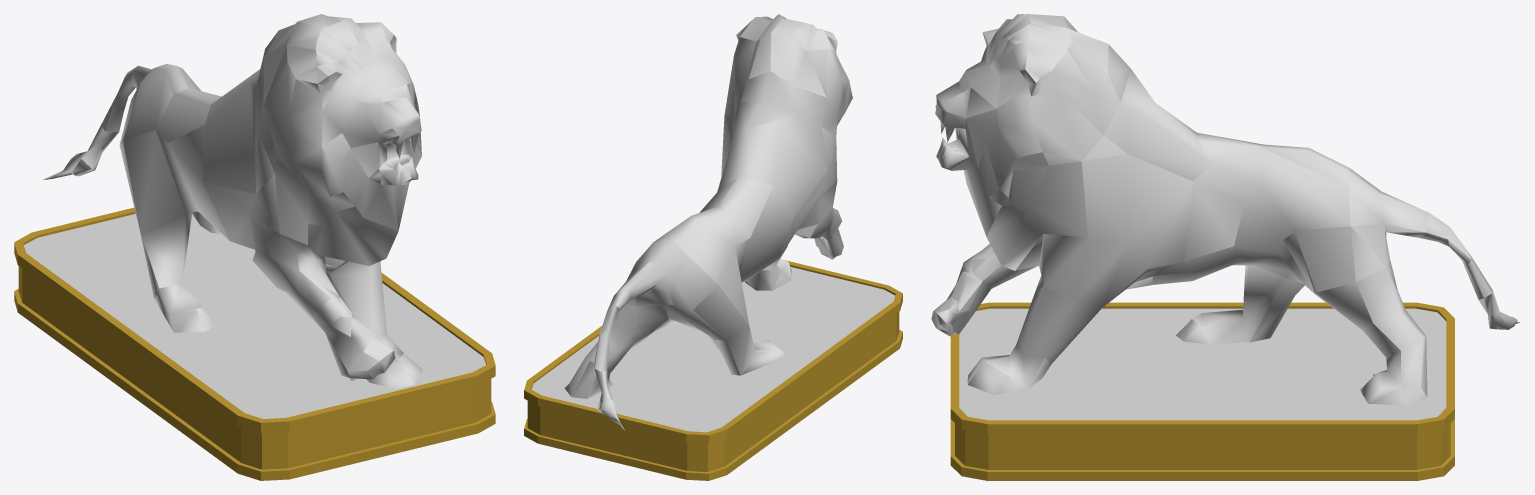
File: Lioin Statue_R.fbx
3 renders of one model, left to right at view 1: azimuth 30°, elevation 25°; view 2: azimuth 150°, elevation 25°; view 3: azimuth 270°, elevation 25°, orthographic. The views are drawn at different scales.
Visible parts, largest first — view 1: Lion Statue, Cube; view 2: Lion Statue, Cube; view 3: Lion Statue, Cube.
Boxes of the visible parts, left/top/right/bottom form: Lion Statue: left=42, top=14, right=422, bottom=388; Cube: left=14, top=207, right=495, bottom=480; Lion Statue: left=564, top=14, right=852, bottom=430; Cube: left=524, top=260, right=902, bottom=480; Lion Statue: left=931, top=14, right=1519, bottom=405; Cube: left=950, top=302, right=1454, bottom=480.
Bounding box in the file's own units: 339 × 518 × 694.
